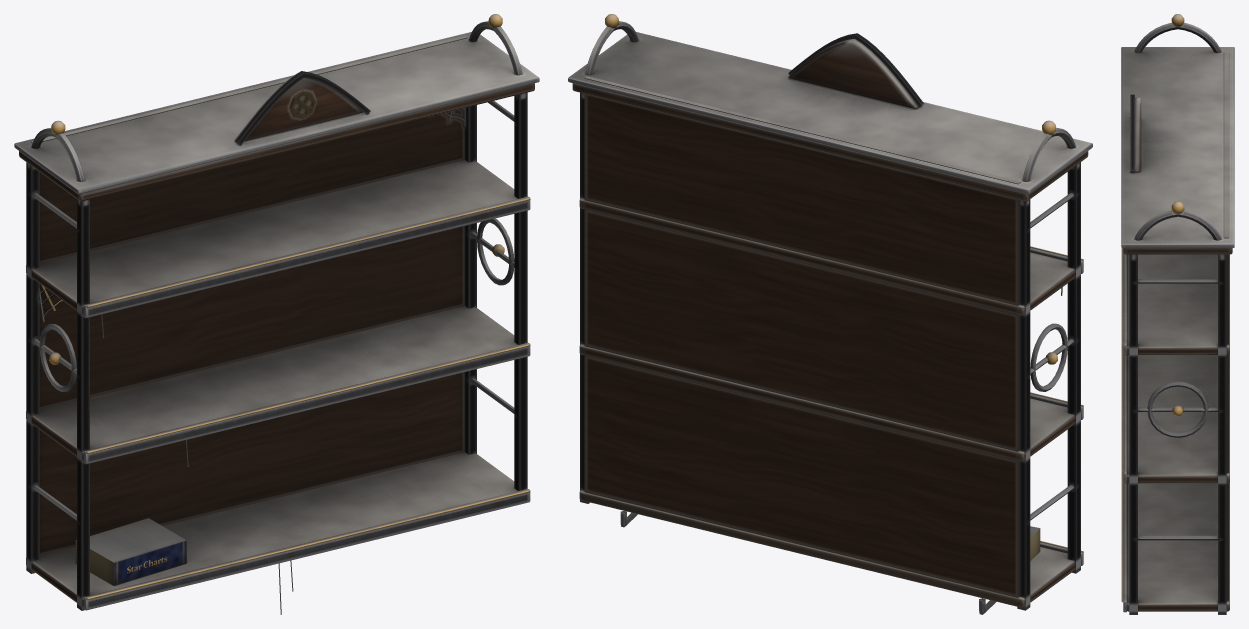
Rendered from DormShelfEmpty.fbx.
3 views of the same model, side by side, from view 1: azimuth 30°, elevation 25°; view 2: azimuth 150°, elevation 25°; view 3: azimuth 270°, elevation 25° (orthographic). The views are drawn at different scales.
Parts seen in each view (by area): view 1: DormShelfEmpty; view 2: DormShelfEmpty; view 3: DormShelfEmpty.
Boxes of the visible parts, x1,y1,x2,y2 form: DormShelfEmpty: [14, 14, 539, 614]; DormShelfEmpty: [568, 14, 1092, 614]; DormShelfEmpty: [1121, 14, 1234, 614].
Bounding box in the file's own units: 496 × 549 × 120.
